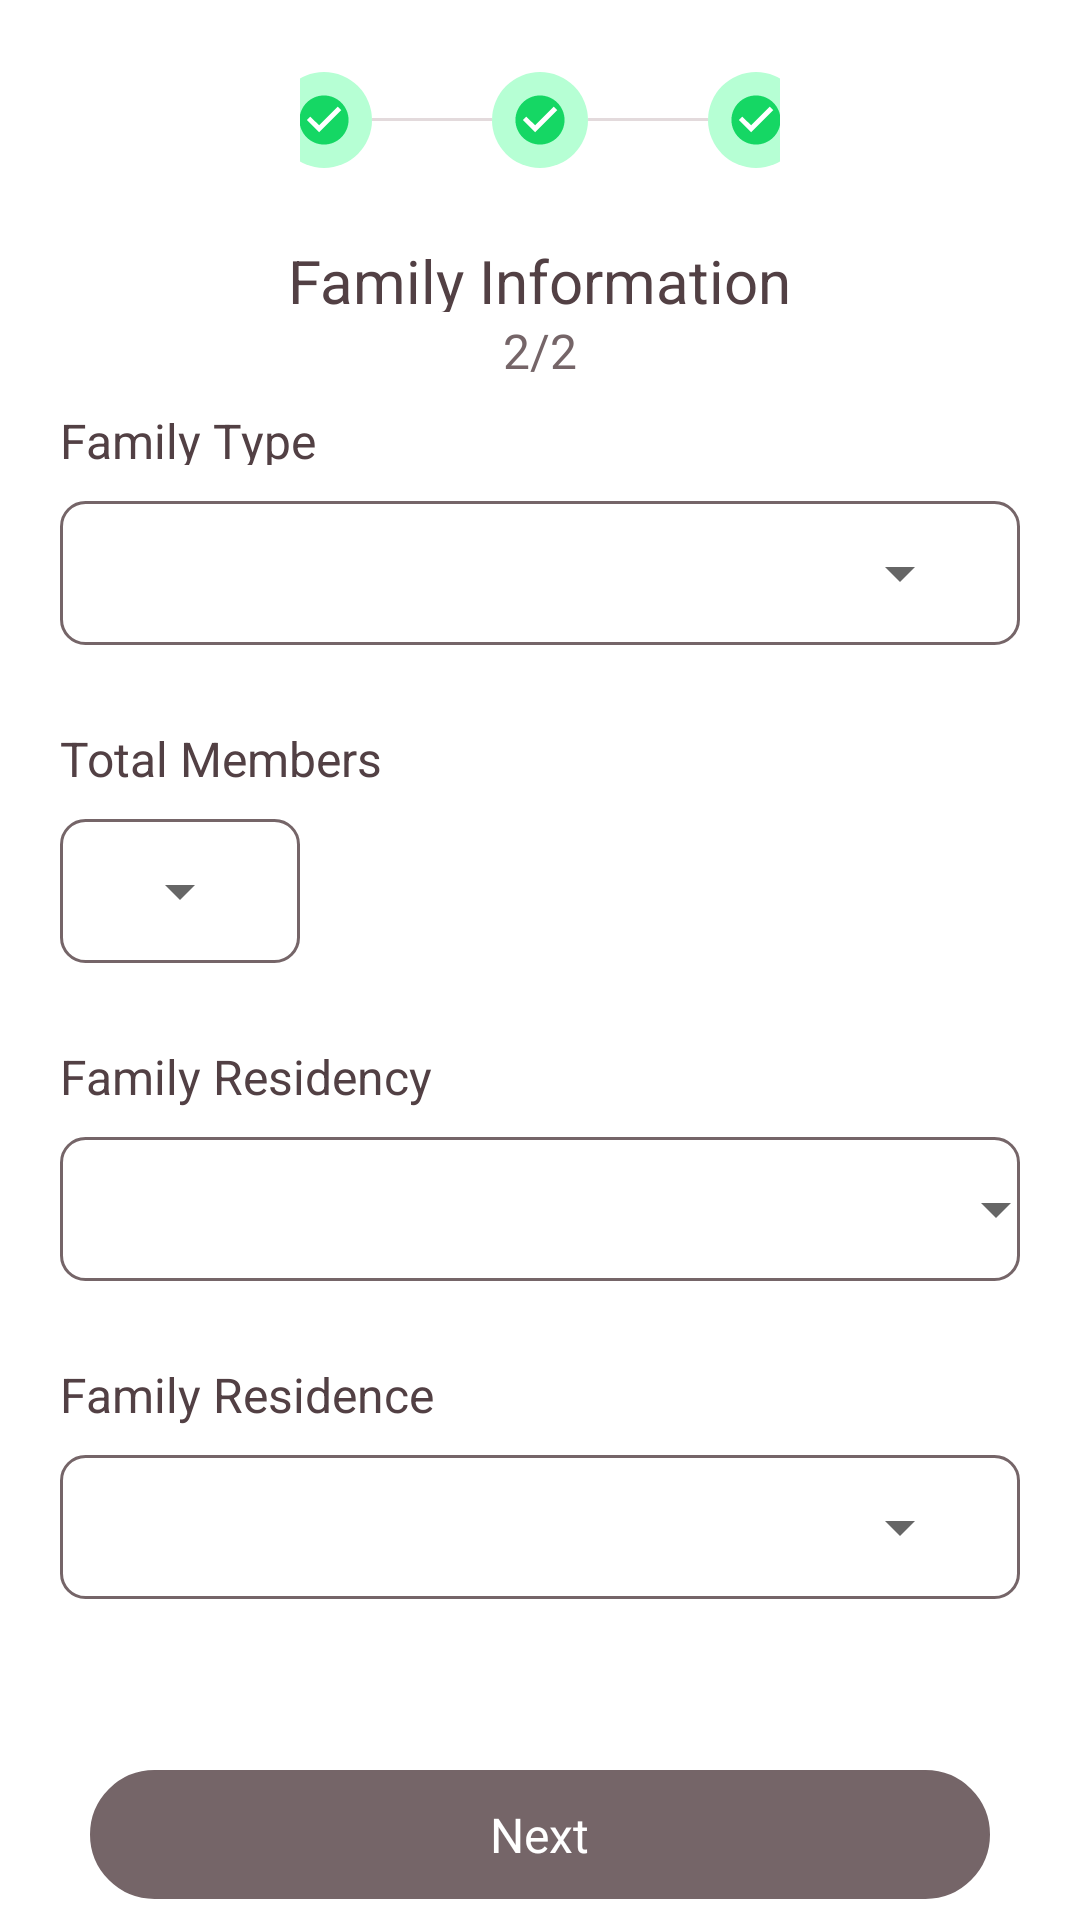

Screen size 1080×1920. Icon name, then its center in pixels as (x=x, y=y):
tick: (x=324, y=120), (x=540, y=120), (x=755, y=120)
